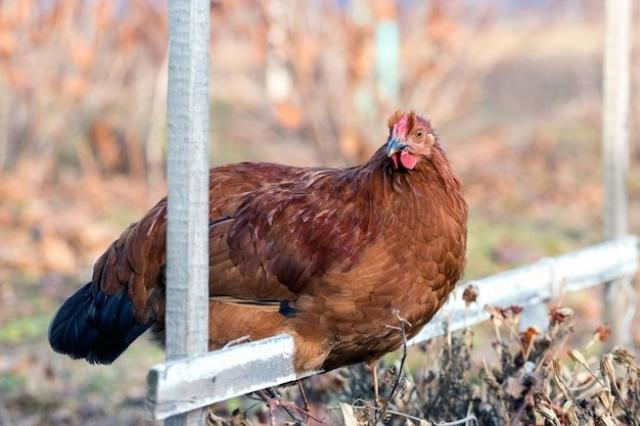Chicken: (49, 109, 469, 372)
